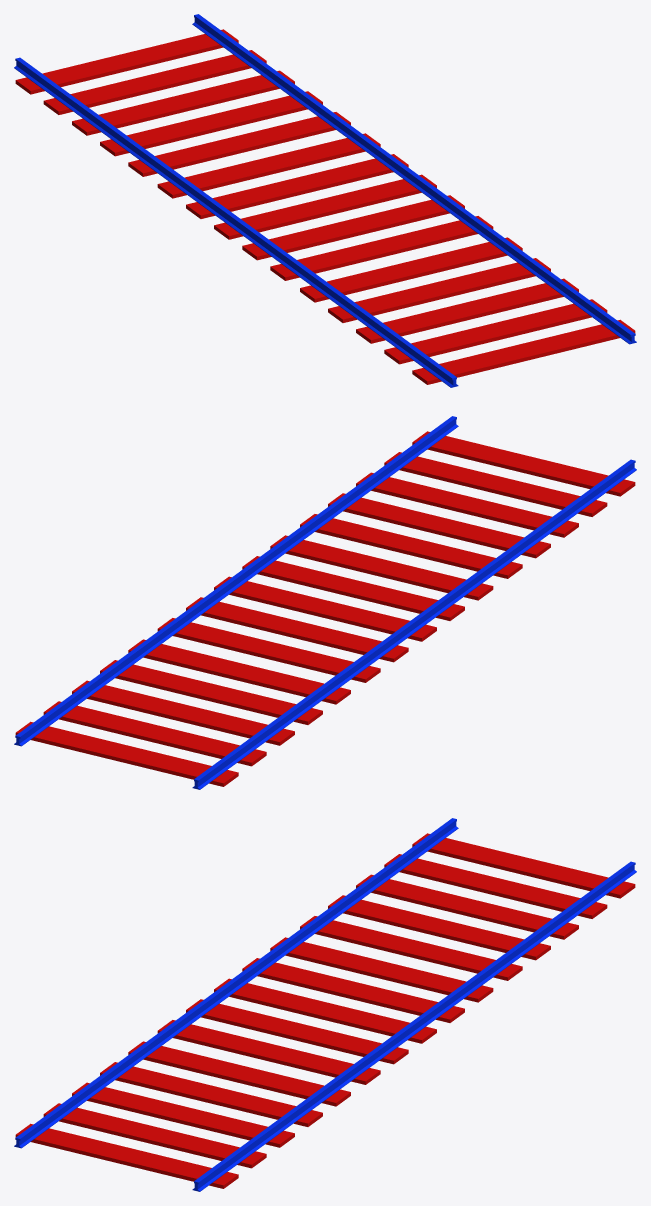
Rendered from 10_railway_tracks.fbx.
3 renders of one model, top to bottom at view 1: azimuth 30°, elevation 25°; view 2: azimuth 150°, elevation 25°; view 3: azimuth 330°, elevation 25°, orthographic.
Visible parts, largest first — view 1: rails; view 2: rails; view 3: rails.
Boxes of the visible parts, x1,y1,x2,y2 form: rails: [14, 14, 636, 387]; rails: [14, 416, 636, 789]; rails: [14, 818, 636, 1191].
Bounding box in the file's own units: 312 × 18.27 × 1135.
